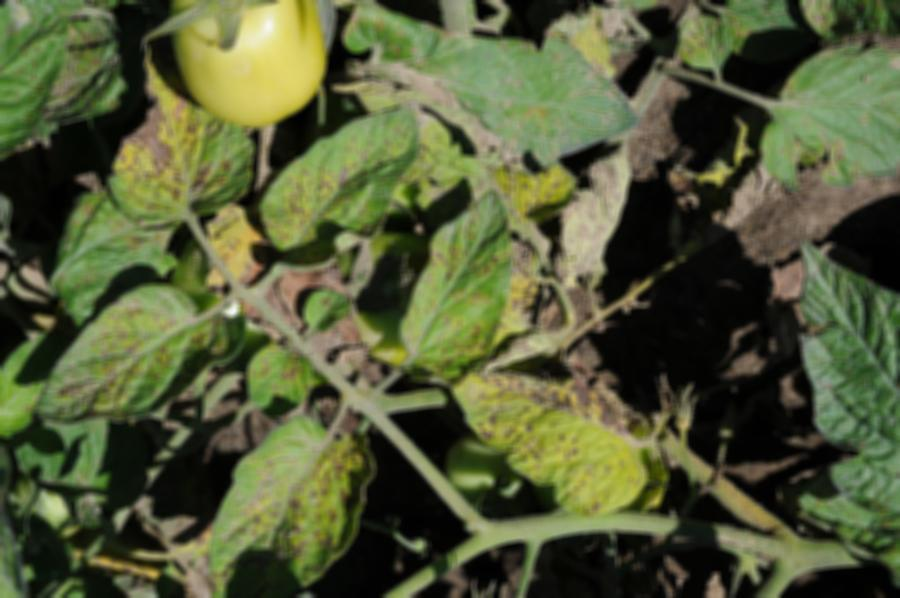Tomato Septoria leaf spot: (452, 358, 653, 522), (197, 415, 379, 596), (105, 54, 254, 254), (385, 189, 517, 388), (30, 285, 212, 428), (261, 117, 433, 264)
